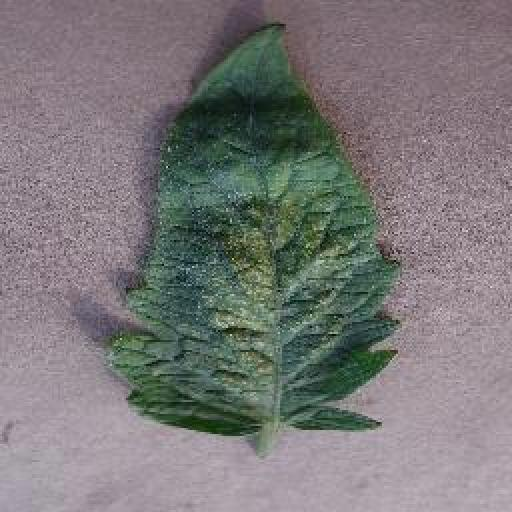disease_tomato: (106, 22, 402, 436)
